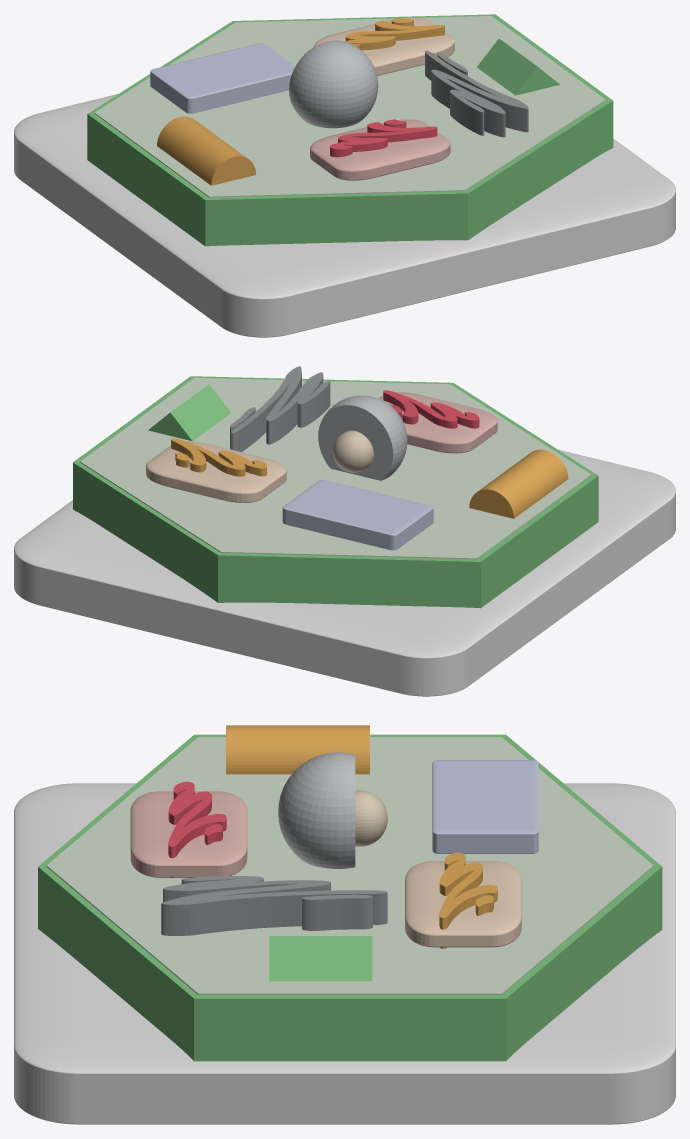
The model's file is plant-cell.glb.
3 renders of one model, top to bottom at view 1: azimuth 30°, elevation 25°; view 2: azimuth 150°, elevation 25°; view 3: azimuth 270°, elevation 25°, orthographic. The views are drawn at different scales.
Visible parts, largest first — view 1: Mesh_Mesh_head_geo.001_lambert2SG.001; view 2: Mesh_Mesh_head_geo.001_lambert2SG.001; view 3: Mesh_Mesh_head_geo.001_lambert2SG.001.
Boxes of the visible parts, bbox=[...] form: Mesh_Mesh_head_geo.001_lambert2SG.001: bbox=[14, 14, 675, 337]; Mesh_Mesh_head_geo.001_lambert2SG.001: bbox=[14, 366, 675, 696]; Mesh_Mesh_head_geo.001_lambert2SG.001: bbox=[14, 725, 675, 1124].
Size of the model in its own units: 0.2 by 0.07 by 0.193.
